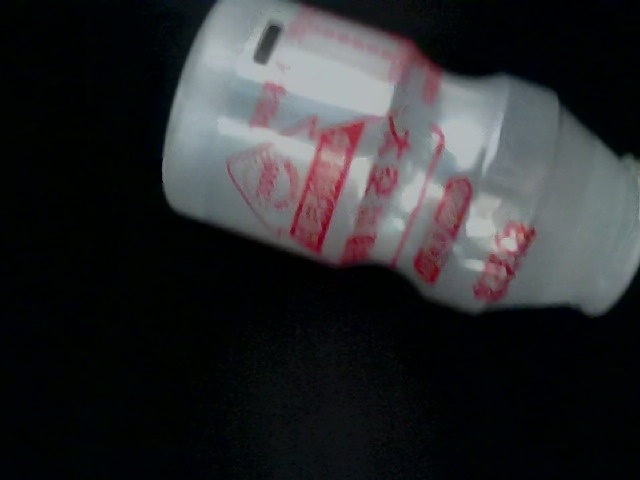CYLJ: (216, 1, 615, 231)
